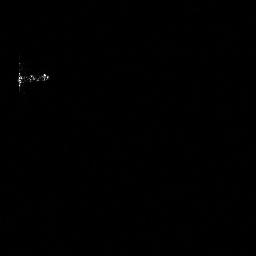ship: (14, 69, 52, 93)
